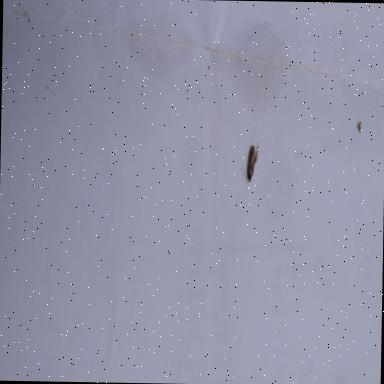pbw: (240, 144, 260, 182)
